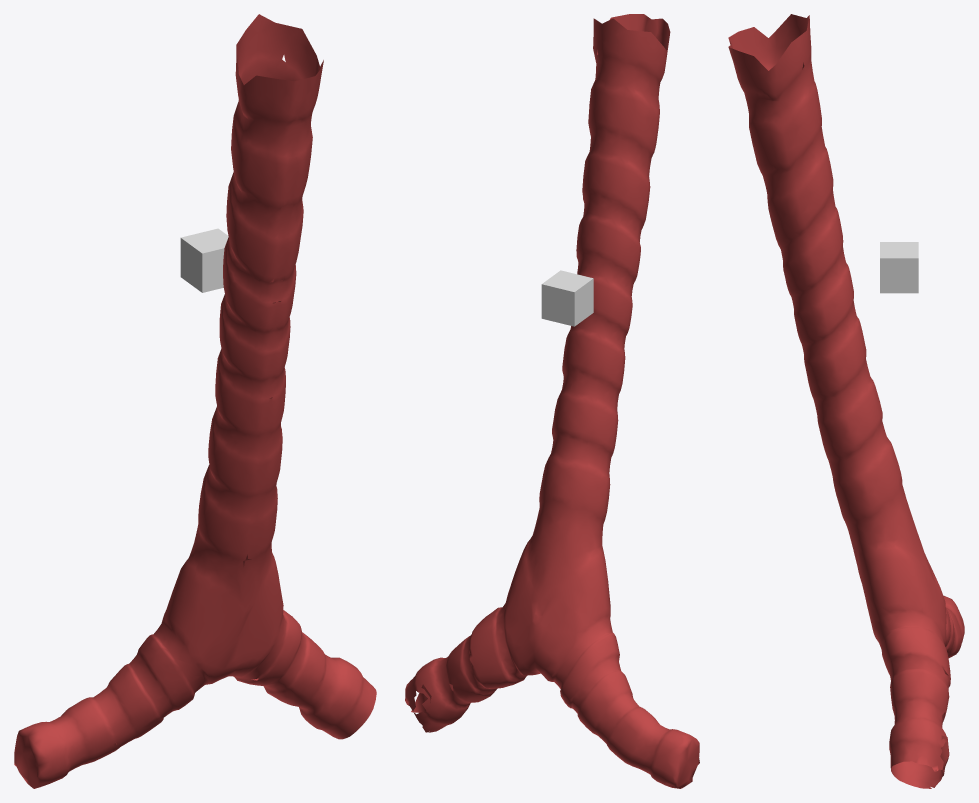
The model's file is faringe.gltf.
The picture shows the model from 3 angles, left to right: view 1: azimuth 30°, elevation 25°; view 2: azimuth 150°, elevation 25°; view 3: azimuth 270°, elevation 25°; orthographic projection. The views are drawn at different scales.
Parts seen in each view (by area): view 1: Mesh_112.001, Cube; view 2: Mesh_112.001, Cube; view 3: Mesh_112.001, Cube.
Part boxes in pixels (x1,y1,x2,y2): Mesh_112.001: (14,14,376,788); Cube: (180,228,228,292); Mesh_112.001: (405,14,699,788); Cube: (541,270,593,326); Mesh_112.001: (728,14,964,788); Cube: (880,242,918,293).
Size of the model in its own units: 17.86 by 40.77 by 12.24.
